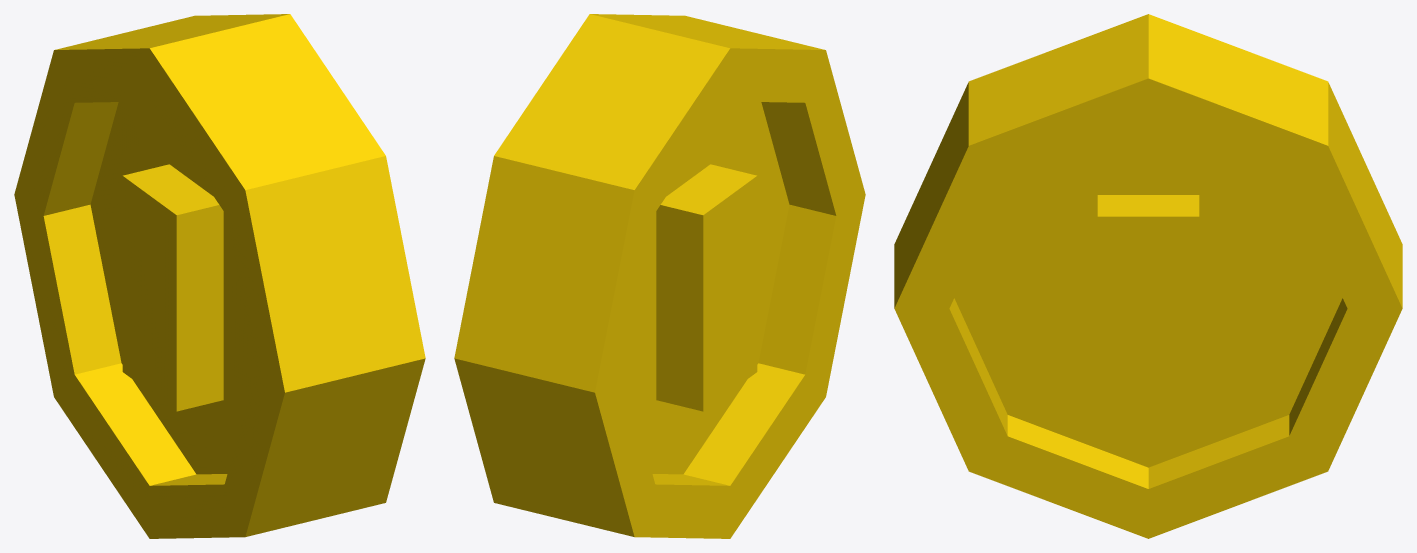
File: coin.glb
3 renders of one model, left to right at view 1: azimuth 30°, elevation 25°; view 2: azimuth 150°, elevation 25°; view 3: azimuth 270°, elevation 25°, orthographic. The views are drawn at different scales.
Visible parts, largest first — view 1: Cylinder, Cube; view 2: Cylinder, Cube; view 3: Cylinder, Cube.
Boxes of the visible parts, x1,y1,x2,y2 form: Cylinder: (14,14,425,538); Cube: (122,164,223,411); Cylinder: (454,14,865,538); Cube: (656,164,757,411); Cylinder: (894,14,1402,538); Cube: (1097,195,1199,400).
Bounding box in the file's own units: 0.3 × 1 × 1.
